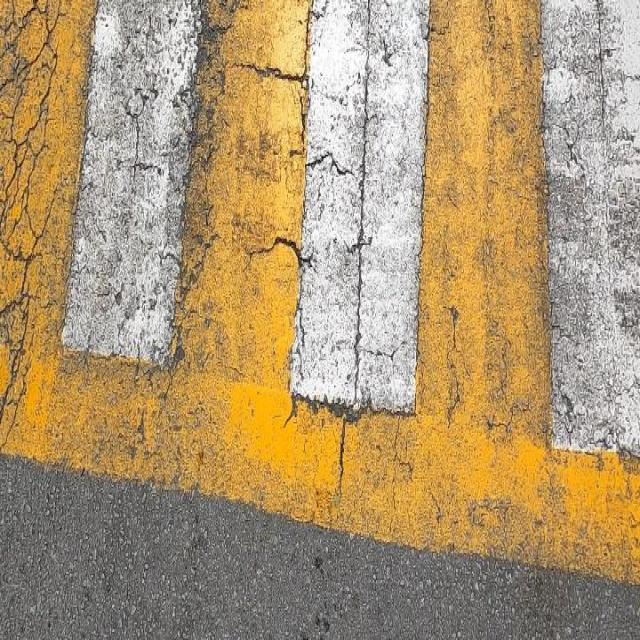cracks: (196, 0, 338, 402), (1, 0, 103, 489), (320, 394, 360, 548)
